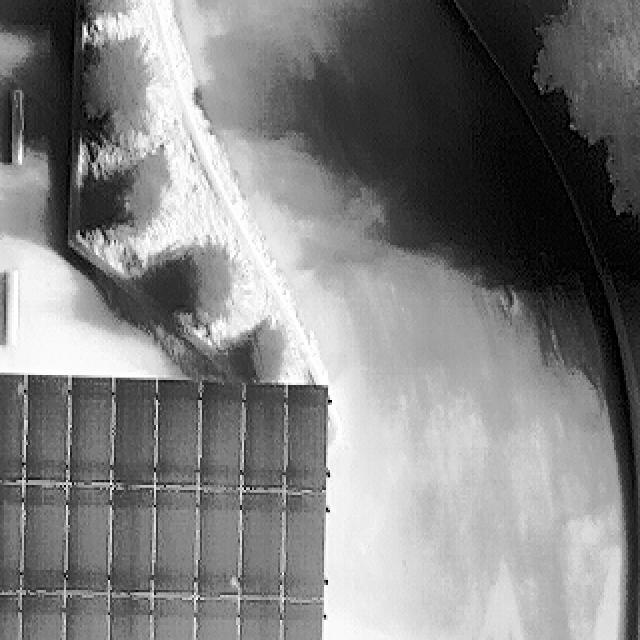Hotspots: (225, 572, 242, 594), (11, 380, 29, 399)
PV-modules: (64, 483, 110, 594), (154, 486, 200, 596), (156, 379, 202, 488), (24, 376, 70, 484), (23, 488, 68, 597), (239, 492, 284, 600), (68, 381, 112, 491), (110, 485, 155, 592), (197, 486, 241, 595), (282, 492, 326, 600), (284, 385, 328, 492), (113, 378, 156, 487), (200, 382, 243, 489), (245, 385, 288, 489), (108, 595, 194, 640), (0, 372, 26, 480), (0, 480, 22, 590), (20, 592, 64, 640), (62, 595, 106, 640), (110, 596, 154, 640), (150, 597, 193, 640), (240, 599, 285, 640), (195, 599, 239, 640), (280, 601, 324, 640), (0, 592, 20, 640)
